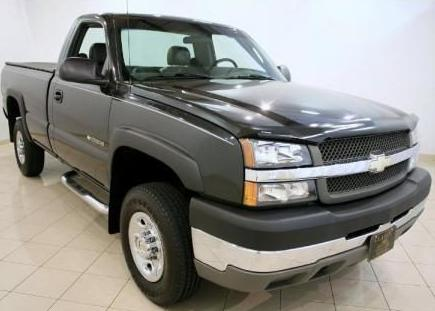front_view: (214, 123, 431, 263)
headlight: (240, 134, 329, 209)
side_glass: (68, 22, 121, 93)
